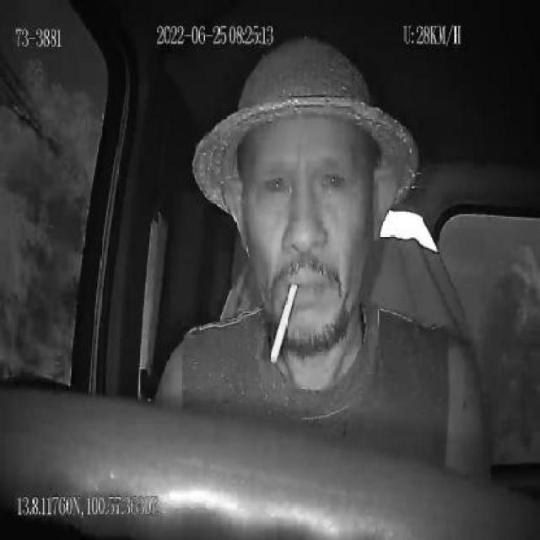smoking: (268, 279, 299, 369)
